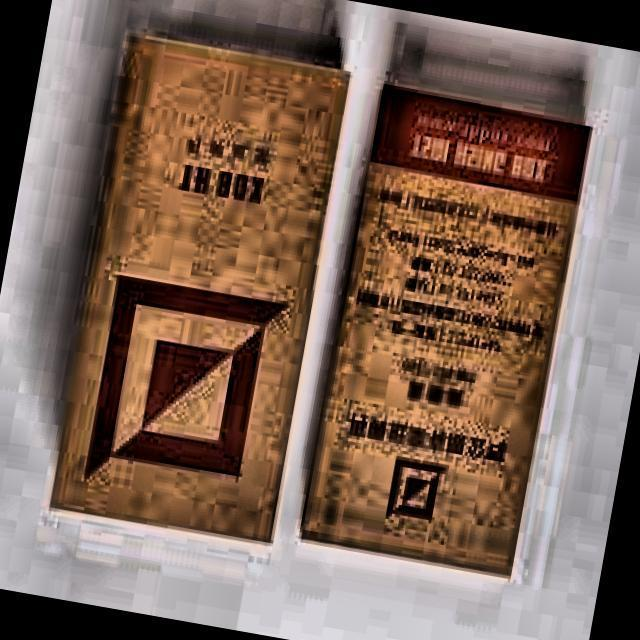cardboard: (42, 32, 353, 552), (294, 82, 594, 582)
